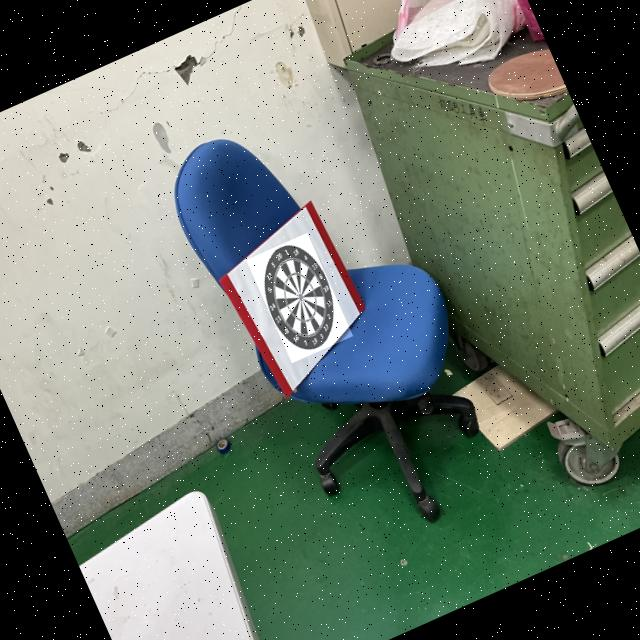archery-targets: (246, 233, 353, 363)
